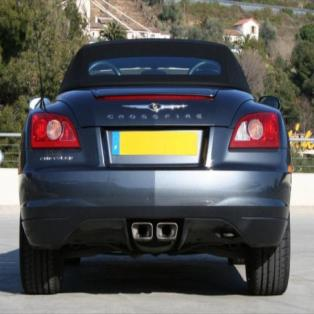Auto: (18, 38, 293, 295)
